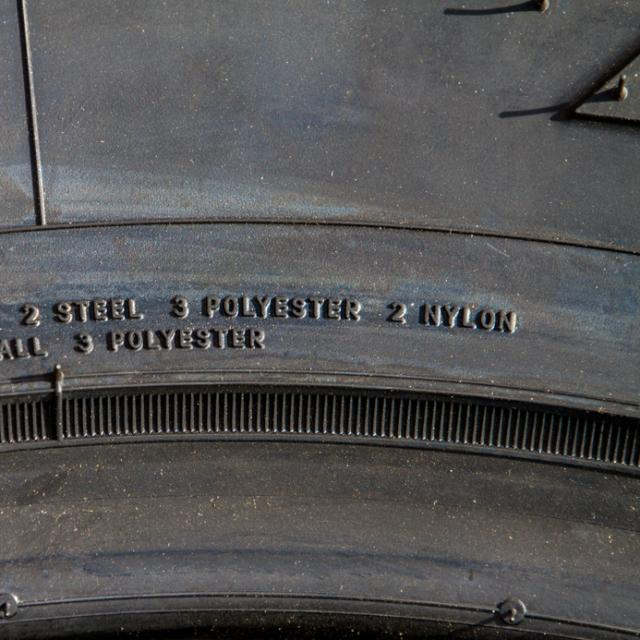Non-defective: (0, 0, 640, 640), (0, 0, 635, 637)
